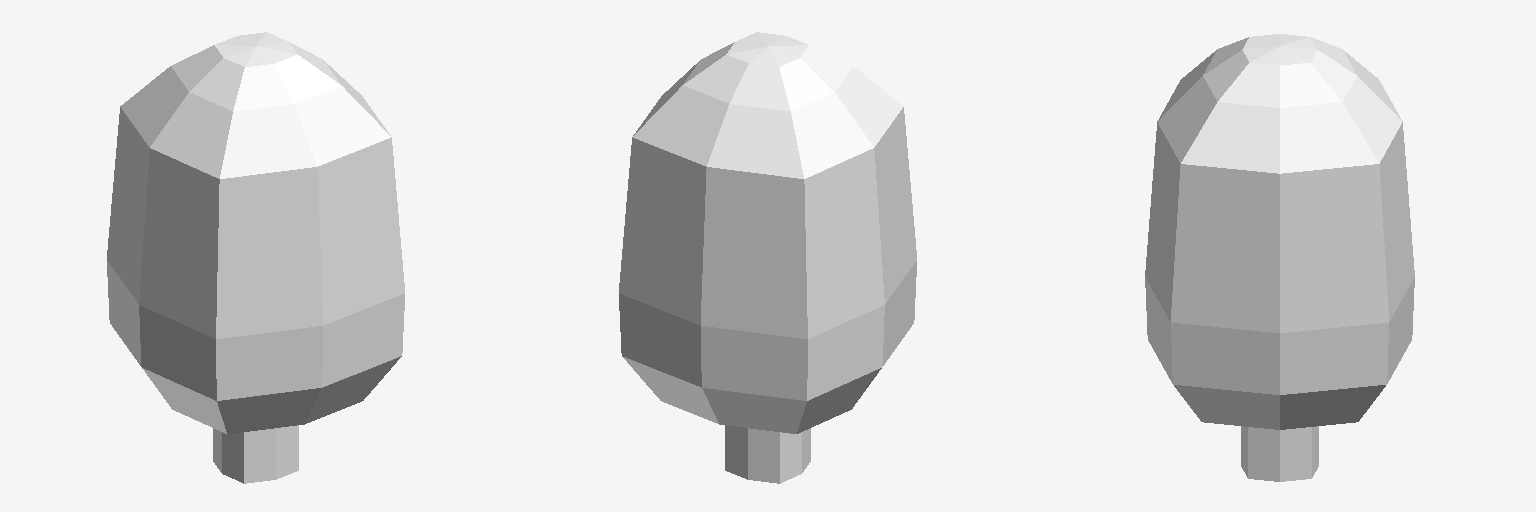
The model's file is ForestTreeDTall.obj.
3 renders of one model, left to right at view 1: azimuth 30°, elevation 25°; view 2: azimuth 150°, elevation 25°; view 3: azimuth 270°, elevation 25°, orthographic.
Parts seen in each view (by area): view 1: ForestTreeDTall; view 2: ForestTreeDTall; view 3: ForestTreeDTall.
Part boxes in pixels (x1,y1,x2,y2): ForestTreeDTall: (107,32,404,483); ForestTreeDTall: (619,32,916,483); ForestTreeDTall: (1145,34,1414,481).
Size of the model in its own units: 1.69 by 2.89 by 1.69.